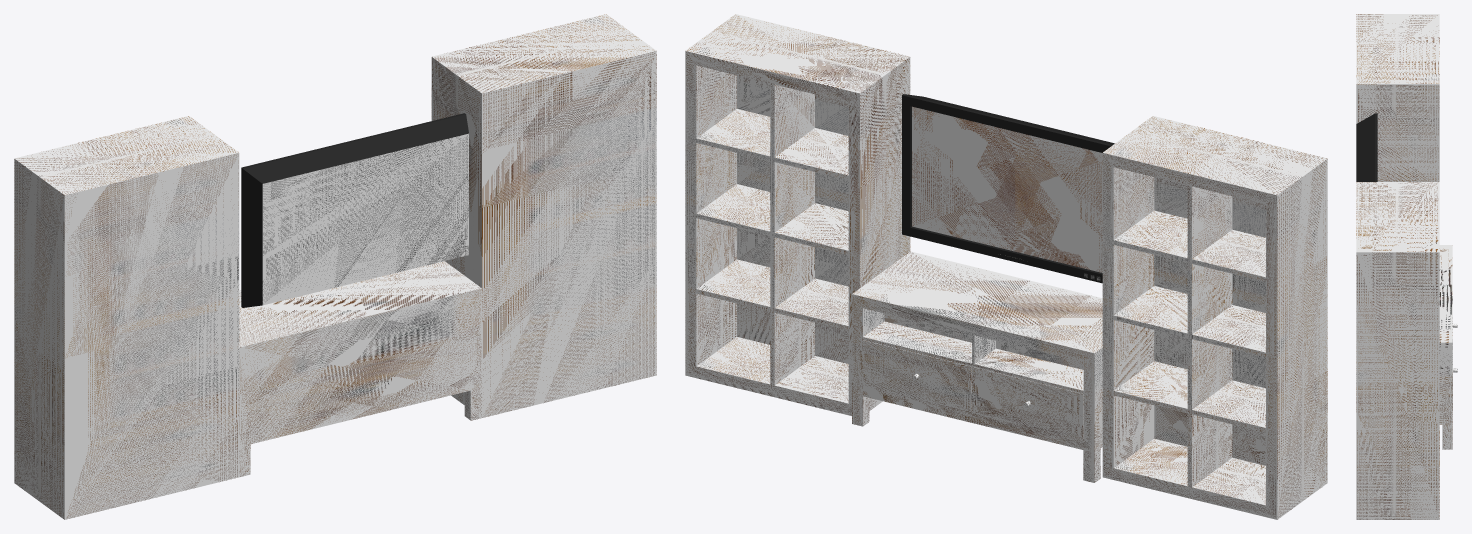
3 renders of one model, left to right at view 1: azimuth 30°, elevation 25°; view 2: azimuth 150°, elevation 25°; view 3: azimuth 270°, elevation 25°, orthographic. The views are drawn at different scales.
Parts seen in each view (by area): view 1: mesh3_mesh3-geometry, mesh5_mesh5-geometry, mesh2_mesh2-geometry; view 2: mesh3_mesh3-geometry, mesh5_mesh5-geometry, mesh2_mesh2-geometry; view 3: mesh3_mesh3-geometry, mesh5_mesh5-geometry, mesh2_mesh2-geometry.
Part boxes in pixels (left/top/right/bottom): mesh3_mesh3-geometry: left=14, top=14, right=656, bottom=519; mesh5_mesh5-geometry: left=239, top=261, right=481, bottom=477; mesh2_mesh2-geometry: left=241, top=113, right=468, bottom=307; mesh3_mesh3-geometry: left=685, top=14, right=1327, bottom=519; mesh5_mesh5-geometry: left=852, top=251, right=1102, bottom=482; mesh2_mesh2-geometry: left=902, top=94, right=1114, bottom=283; mesh3_mesh3-geometry: left=1356, top=14, right=1439, bottom=519; mesh5_mesh5-geometry: left=1439, top=245, right=1457, bottom=449; mesh2_mesh2-geometry: left=1356, top=113, right=1377, bottom=181.
Size of the model in its own units: 0.8748 by 0.4582 by 0.1573.
